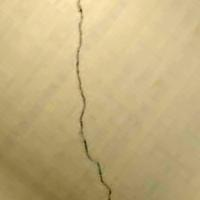crack: (57, 0, 142, 199)
